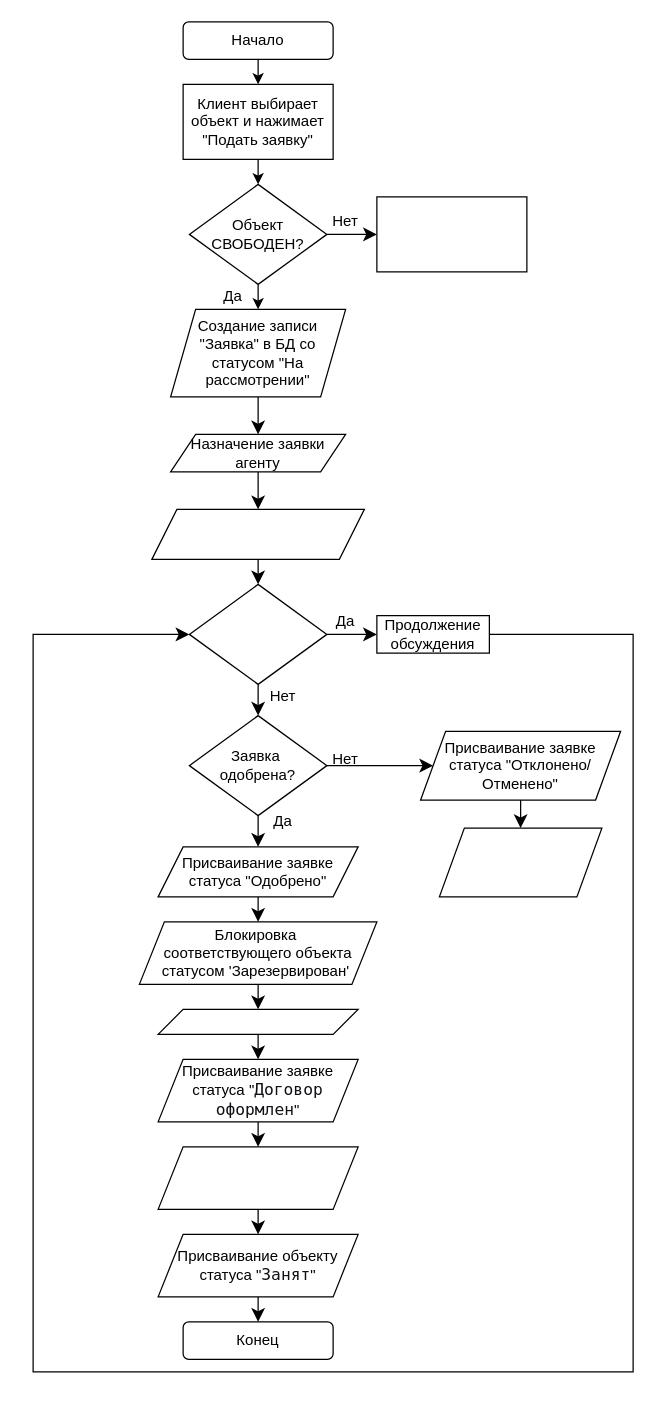
Some shapes in this 668 by 1406 pixel diagram are drawn without their labels. Each missing label, with the centre of its shape:
Генерация договора: pixel 257 1021
Оповещение агента о новой заявке и начало обсуждения: pixel 257 533
Оповещение арендатора об отклонении: pixel 520 862
Появляется сообщение об архиве или занятости объекта: pixel 451 234
Присваивание заявке статуса " Завершена ": pixel 257 1177
Продолжение обсуждения?: pixel 257 633
